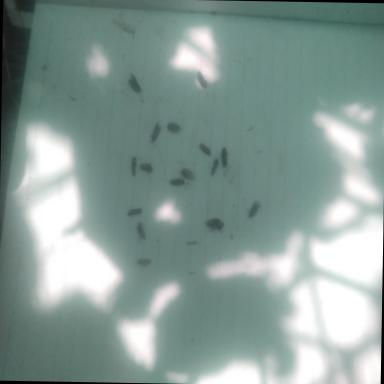pbw: (150, 124, 162, 144), (129, 75, 141, 93), (197, 71, 208, 89), (249, 201, 260, 218), (140, 162, 153, 174), (198, 143, 210, 155), (138, 223, 146, 240), (167, 122, 180, 132), (128, 208, 142, 217), (210, 223, 224, 232), (182, 170, 194, 180), (222, 148, 228, 168), (212, 159, 219, 176), (170, 178, 184, 186), (206, 219, 220, 227), (138, 260, 152, 266), (132, 158, 136, 177)
